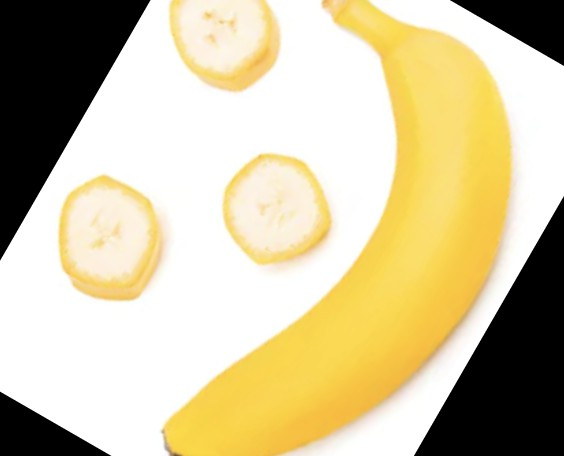fresh_banana: (161, 1, 511, 456)
